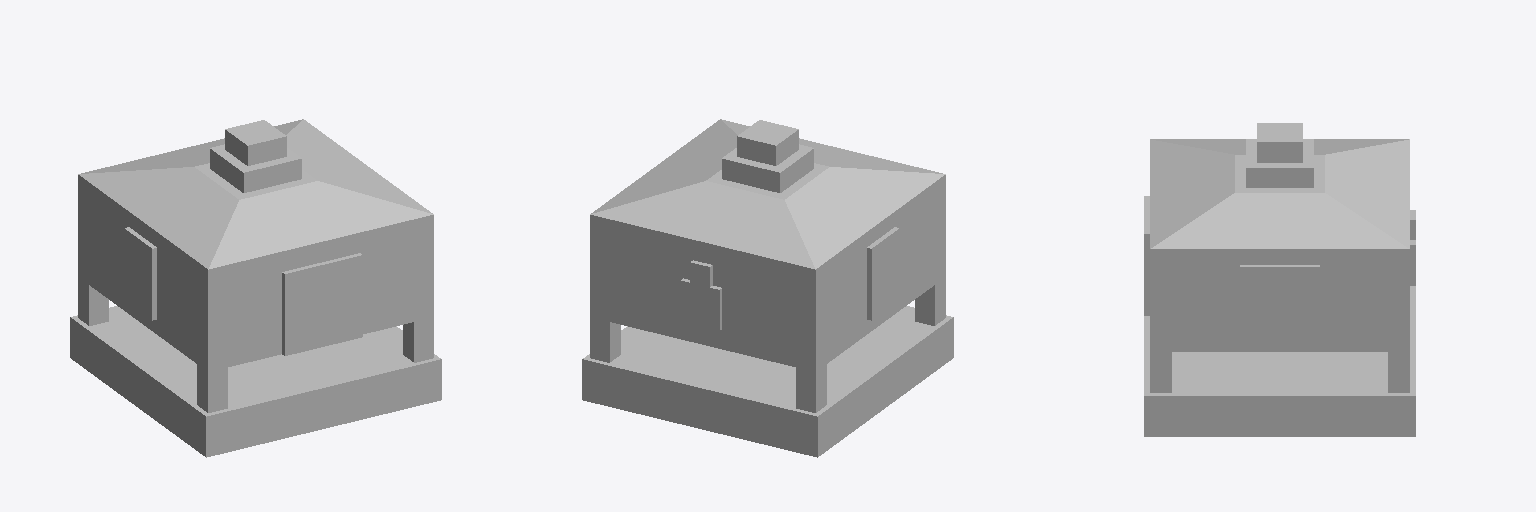
The model's file is crystallizer_mirrored_minimized.obj.
The picture shows the model from 3 angles: view 1: azimuth 30°, elevation 25°; view 2: azimuth 150°, elevation 25°; view 3: azimuth 270°, elevation 25°; orthographic projection.
Parts seen in each view (by area): view 1: Cube_Cube.005; view 2: Cube_Cube.005; view 3: Cube_Cube.005.
Boxes of the visible parts, box(x1,y1,x2,y2) form: Cube_Cube.005: box(70, 119, 441, 457); Cube_Cube.005: box(582, 119, 953, 457); Cube_Cube.005: box(1144, 123, 1415, 436).
Bounding box in the file's own units: 3 × 3 × 3.